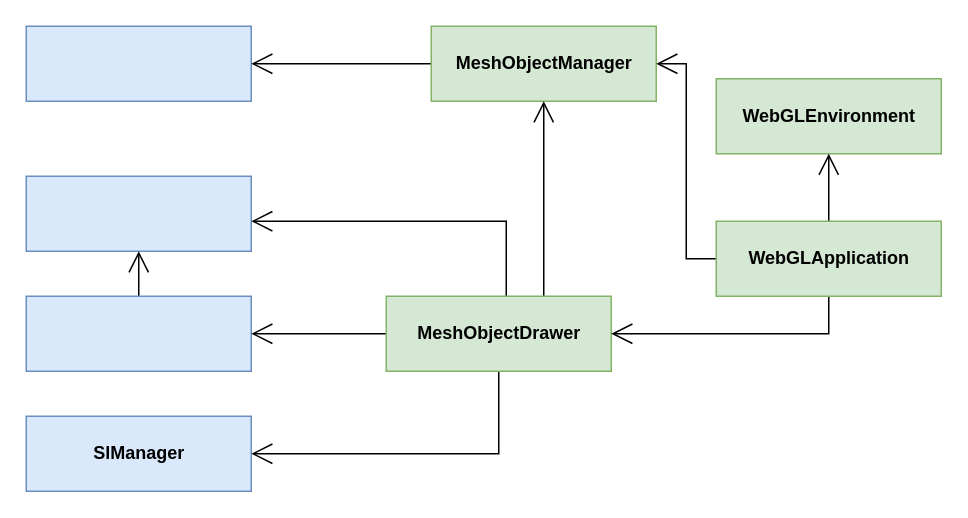
The diagram is 968 pixels wide and 518 high, and some of its shapes have lost their labels. Here are the shapes that lost their labels. From the top down, the box of each, then its label:
(25, 25, 251, 101): MeshObject
(25, 175, 251, 251): Camera
(25, 295, 251, 371): CameraMan
